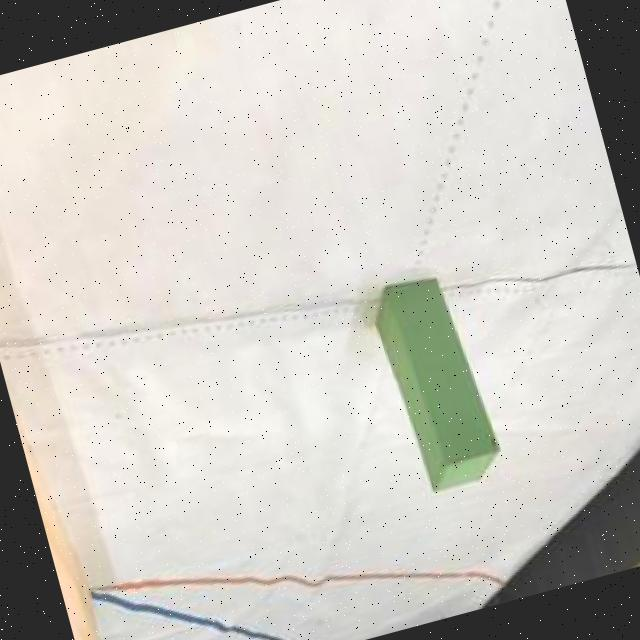greenbox: (367, 266, 504, 496)
